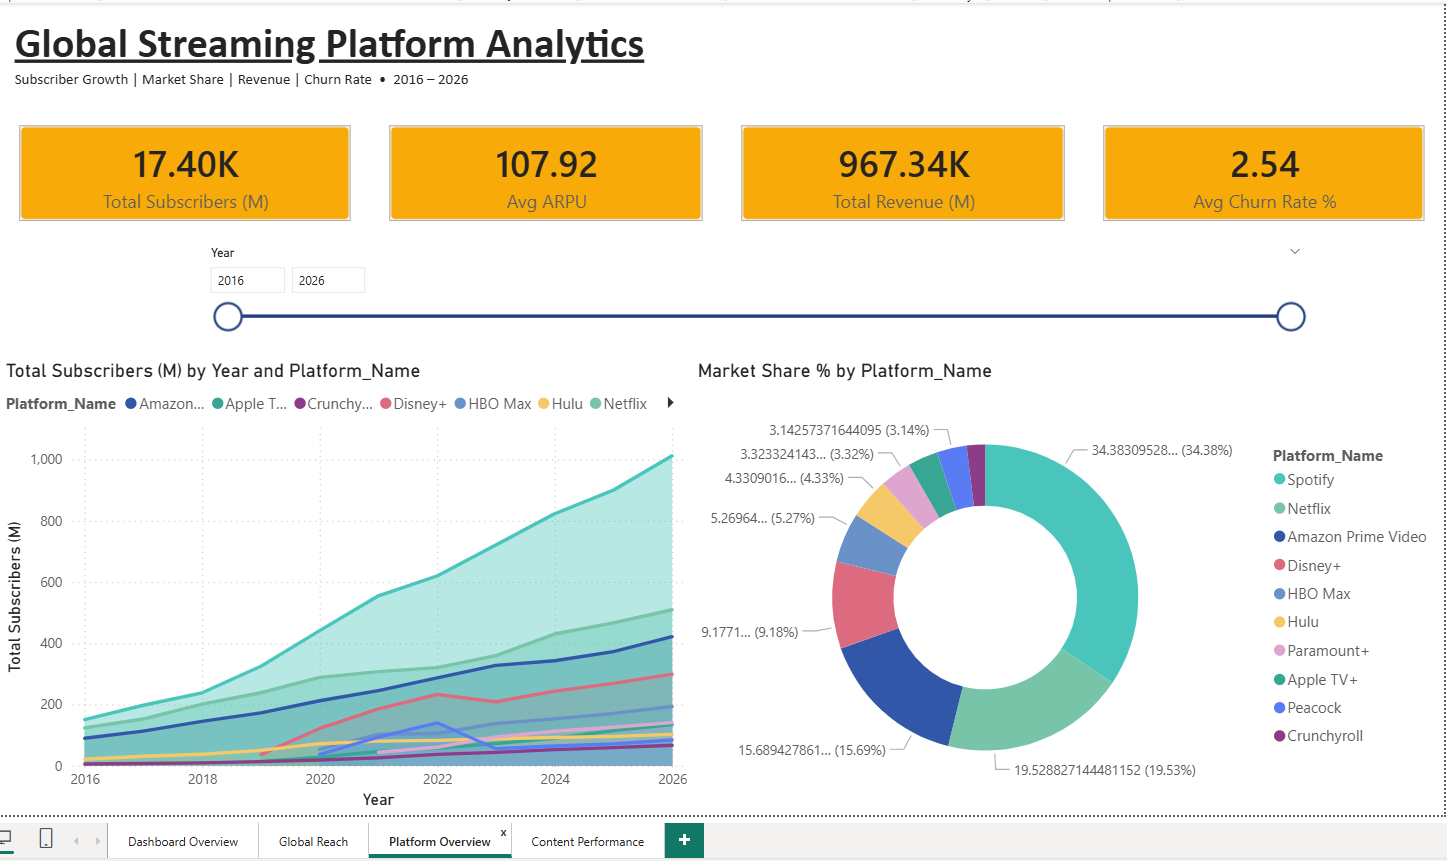

The dashboard page shown, as its layout file describes it:
{"tool":"powerbi","page":{"name":"Platform Overview","canvas":[1280,720],"ordinal":2},"visuals":[{"type":"cardVisual","fields":{"Data":["Fact_Subscribers.Total Revenue (M)"]},"box":[640,91,321,119],"z":0},{"type":"cardVisual","fields":{"Data":["Fact_Subscribers.Avg ARPU"]},"box":[328,91,312,119],"z":1000},{"type":"cardVisual","fields":{"Data":["Fact_Subscribers.Avg Churn Rate %"]},"box":[961,91,319,119],"z":2000},{"type":"cardVisual","fields":{"Data":["Fact_Subscribers.Total Subscribers (M)"]},"box":[0,91,328,119],"z":3000},{"type":"areaChart","fields":{"Category":["Dim_Year.Year"],"Y":["Fact_Subscribers.Total Subscribers (M)"],"Series":["Dim_Platforms.Platform_Name"]},"box":[0,316,614,404],"z":4000},{"type":"donutChart","fields":{"Category":["Dim_Platforms.Platform_Name"],"Y":["Fact_Subscribers.Market Share %"]},"box":[614,316,666,404],"z":5000},{"type":"slicer","fields":{"Values":["Dim_Year.Year"]},"box":[174,210,992,95],"z":6000},{"type":"textbox","box":[8,7,771,84],"z":7000}]}

Visuals, with their boxes on the page's 1280x720 design canvas (x1, y1, x2, y2). These are canvas units, not pixel positions in the 1447x861 screenshot, which may show the page scaled, cropped or inside an application window:
cardVisual - Fact_Subscribers.Total Revenue (M): BBox(640, 91, 961, 210)
cardVisual - Fact_Subscribers.Avg ARPU: BBox(328, 91, 640, 210)
cardVisual - Fact_Subscribers.Avg Churn Rate %: BBox(961, 91, 1280, 210)
cardVisual - Fact_Subscribers.Total Subscribers (M): BBox(0, 91, 328, 210)
areaChart - Dim_Year.Year x Fact_Subscribers.Total Subscribers (M): BBox(0, 316, 614, 720)
donutChart - Dim_Platforms.Platform_Name x Fact_Subscribers.Market Share %: BBox(614, 316, 1280, 720)
slicer - Dim_Year.Year: BBox(174, 210, 1166, 305)
textbox: BBox(8, 7, 779, 91)
